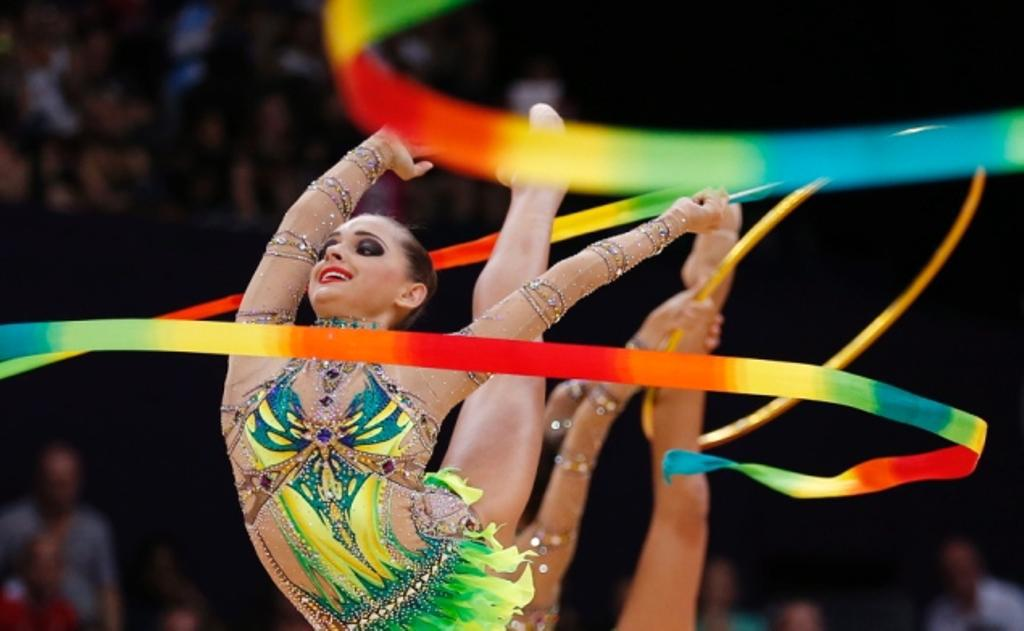face: (311, 211, 407, 303)
